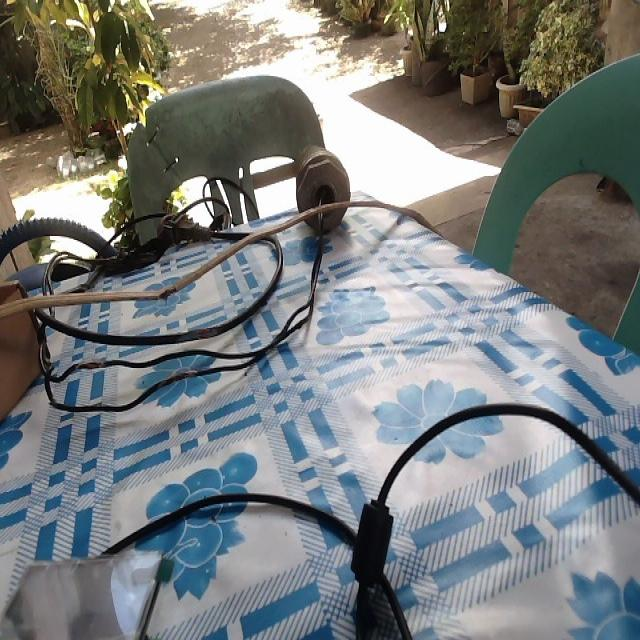-: (151, 285, 178, 303), (73, 360, 106, 371), (176, 370, 200, 378)
